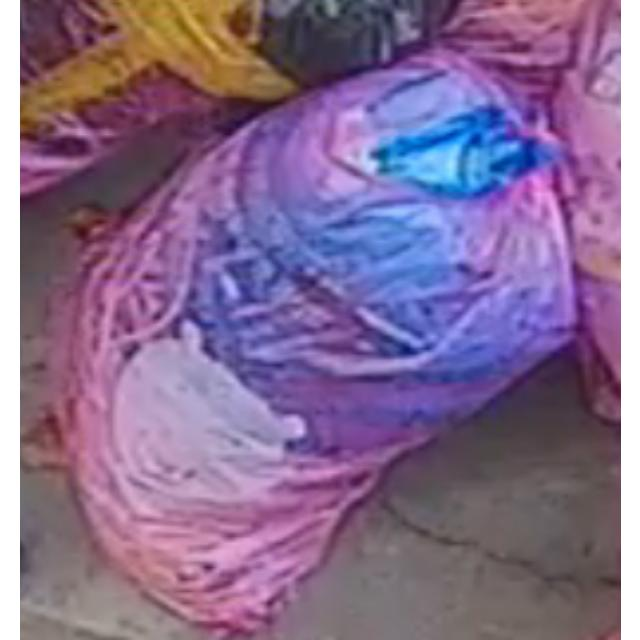other_trashbag: (68, 49, 573, 632)
